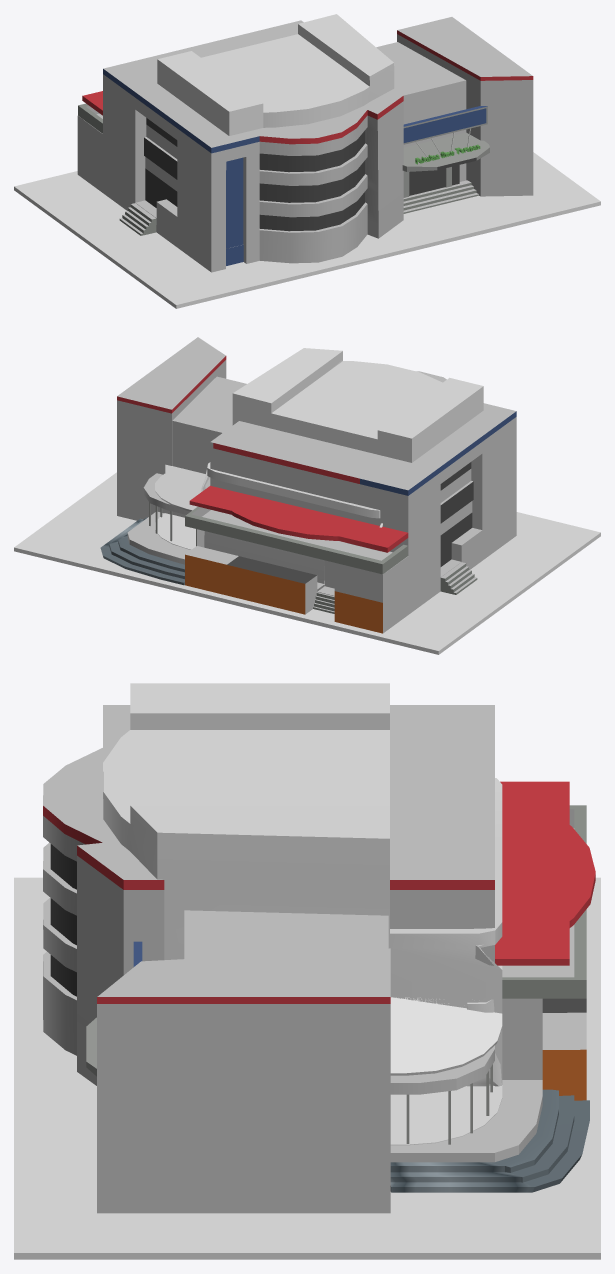
The model's file is FIT FIX REVISI (1).fbx.
3 views of the same model, one above another, from view 1: azimuth 30°, elevation 25°; view 2: azimuth 150°, elevation 25°; view 3: azimuth 270°, elevation 25° (orthographic). The views are drawn at different scales.
Visible parts, largest first — view 1: gedung, Plane, Cube, gedung 3, gedung 2, Cube.001, tangga depan, tangga blkng 3; view 2: gedung, Cube, Plane, gedung 3, gedung 2, tangga blkng, tangga blkng 3; view 3: Cube, gedung, gedung 3, Plane, gedung 2, tangga blkng.
Part boxes in pixels (box(x1,y1,x2,y2)): gedung: box(77, 20, 403, 272); Plane: box(14, 152, 600, 308); Cube: box(157, 14, 394, 248); gedung 3: box(397, 17, 533, 196); gedung 2: box(376, 42, 489, 197); Cube.001: box(403, 106, 487, 144); tangga depan: box(403, 180, 478, 213); tangga blkng 3: box(119, 203, 156, 235); gedung: box(127, 371, 516, 633); Cube: box(155, 348, 483, 591); Plane: box(14, 472, 600, 654); gedung 3: box(117, 337, 226, 520); gedung 2: box(172, 376, 246, 517); tangga blkng: box(100, 517, 184, 585); tangga blkng 3: box(440, 562, 477, 594); Cube: box(103, 683, 502, 1145); gedung: box(43, 705, 595, 1162); gedung 3: box(97, 948, 390, 1213); Plane: box(14, 877, 600, 1259); gedung 2: box(86, 910, 388, 1076); tangga blkng: box(390, 1089, 589, 1192).
Bounding box in the file's own units: 4963 × 1724 × 3282.
